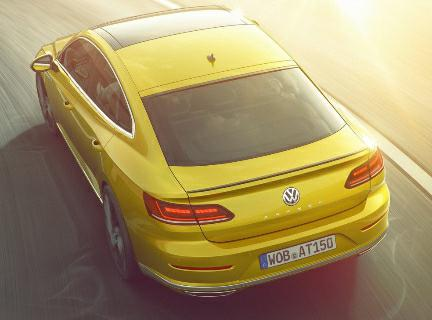大众-Arteon: (28, 2, 402, 308)
